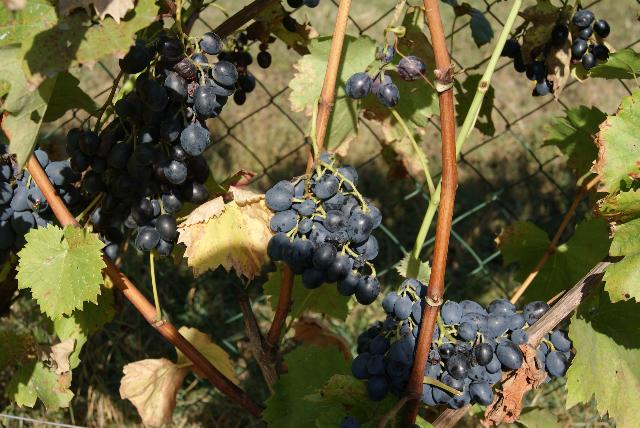grapes: (115, 20, 239, 256), (351, 280, 549, 409), (265, 174, 381, 304), (66, 128, 139, 259)
